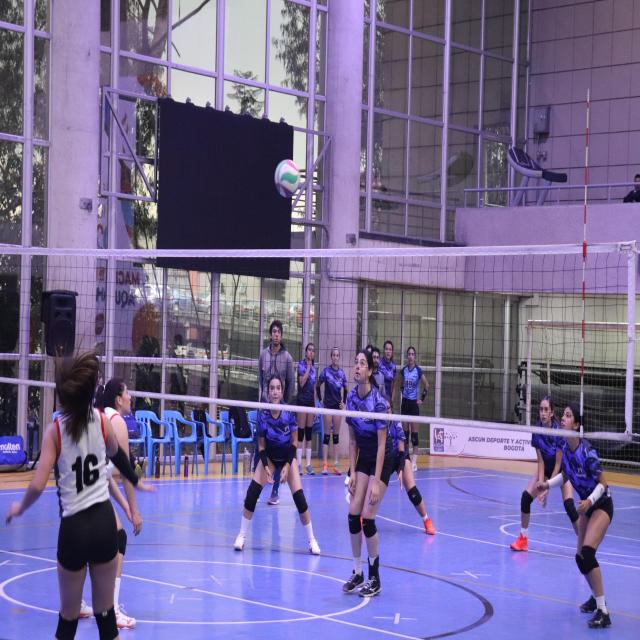volleyball: (274, 158, 300, 198)
